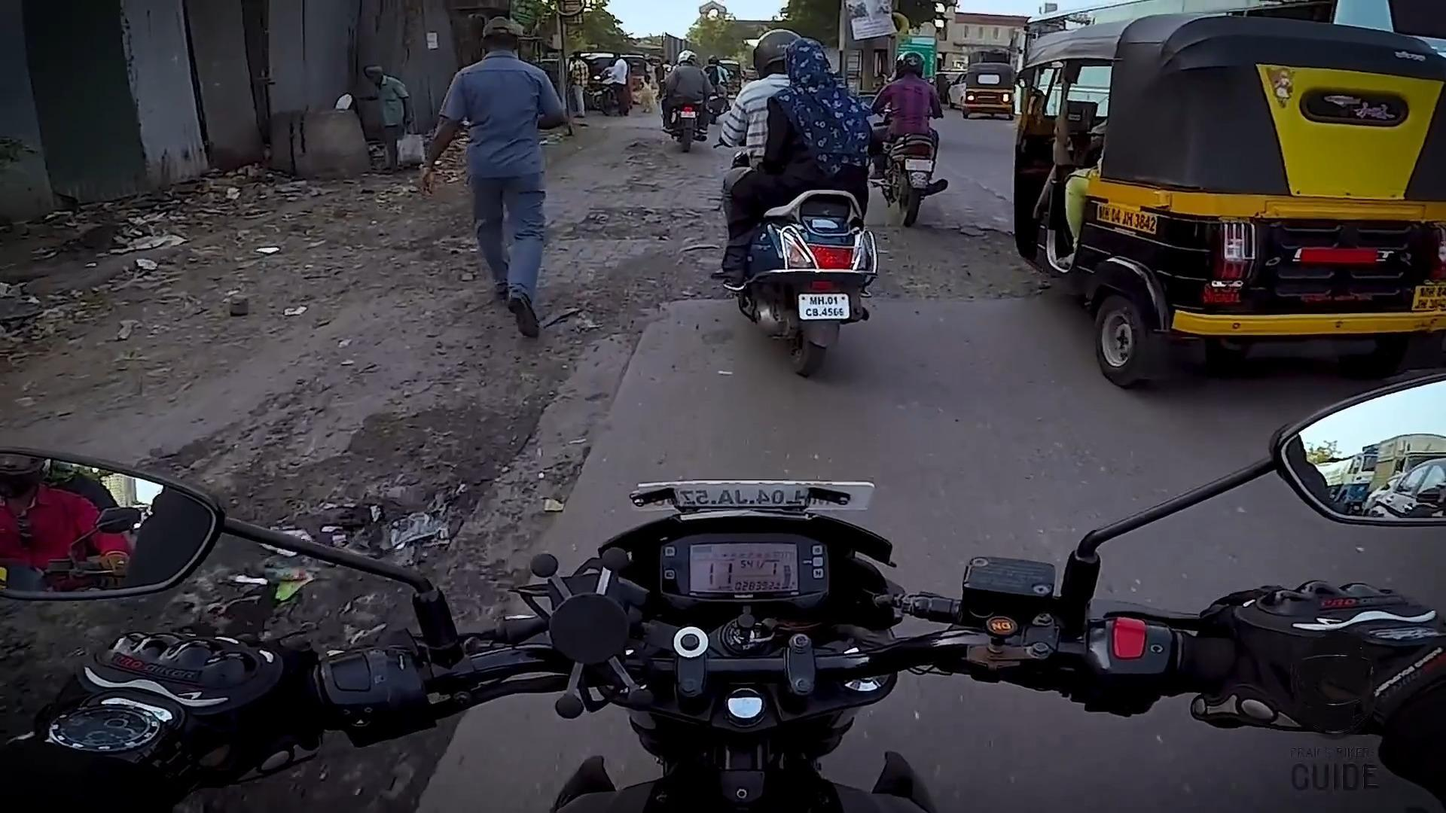Helmet: (741, 23, 811, 80), (889, 42, 930, 82)
bike: (712, 113, 882, 377), (866, 98, 953, 225)
no-helmet: (782, 32, 834, 89)
number-plate: (798, 289, 848, 320)
rider: (728, 35, 880, 266), (721, 23, 813, 165), (877, 47, 945, 147)
